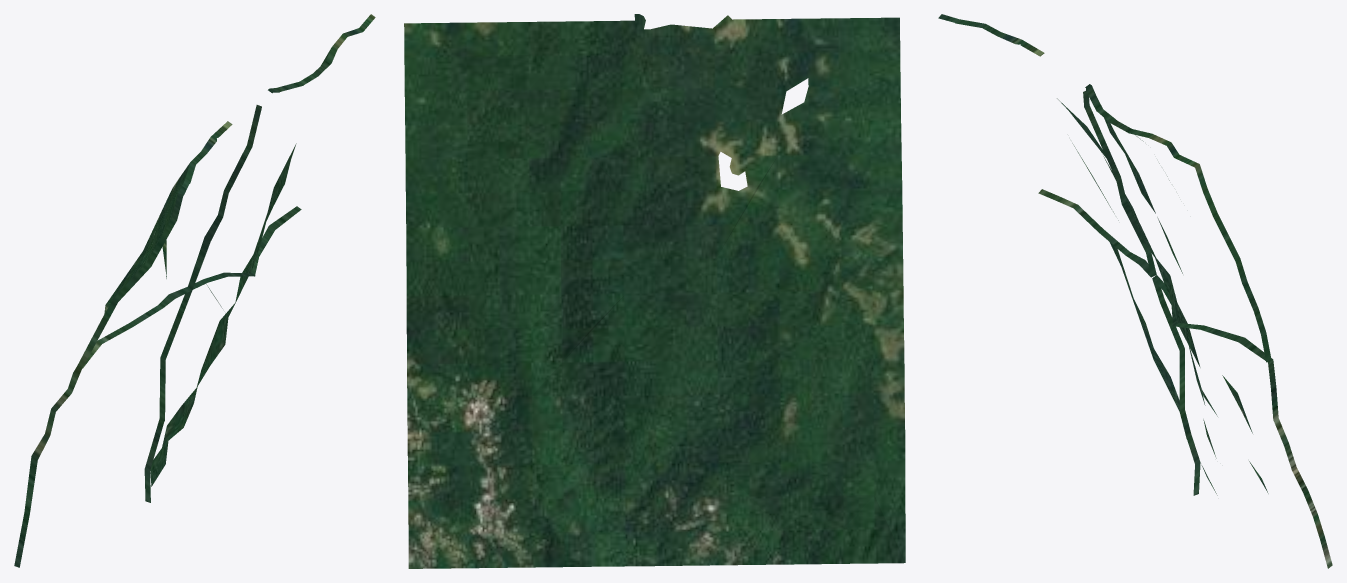
The picture shows the model from 3 angles, left to right: view 1: azimuth 30°, elevation 25°; view 2: azimuth 150°, elevation 25°; view 3: azimuth 270°, elevation 25°; orthographic projection. The views are drawn at different scales.
Size of the model in its own units: 2333 by 2421 by 1925.
Materials: 1 (1 with a texture image).
